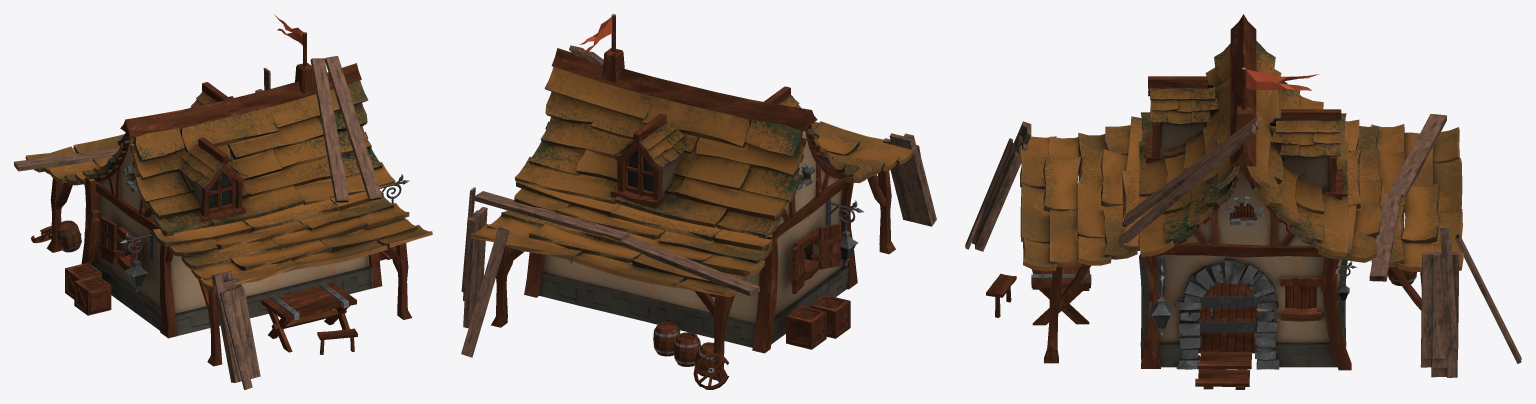
The model's file is Building_3.fbx.
3 views of the same model, side by side, from view 1: azimuth 30°, elevation 25°; view 2: azimuth 150°, elevation 25°; view 3: azimuth 270°, elevation 25° (orthographic). The views are drawn at different scales.
Parts seen in each view (by area): view 1: Building_3_LOD0; view 2: Building_3_LOD0; view 3: Building_3_LOD0.
Part boxes in pixels (<box>): Building_3_LOD0: <box>14,14,432,389</box>; Building_3_LOD0: <box>461,14,936,389</box>; Building_3_LOD0: <box>965,14,1521,389</box>.
Size of what is drawn, in the model's own units: 1227 by 949 by 1695.
